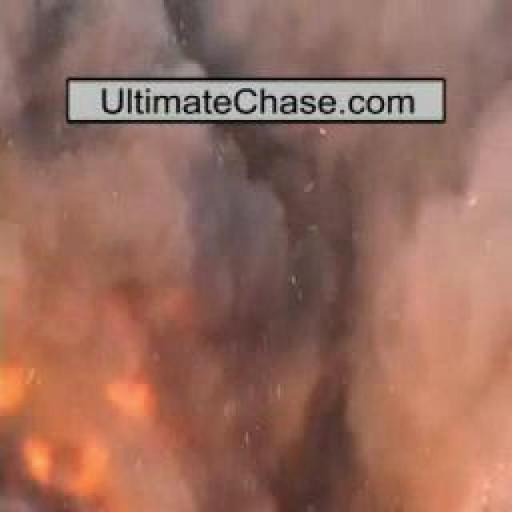smoke: (0, 240, 210, 512)
